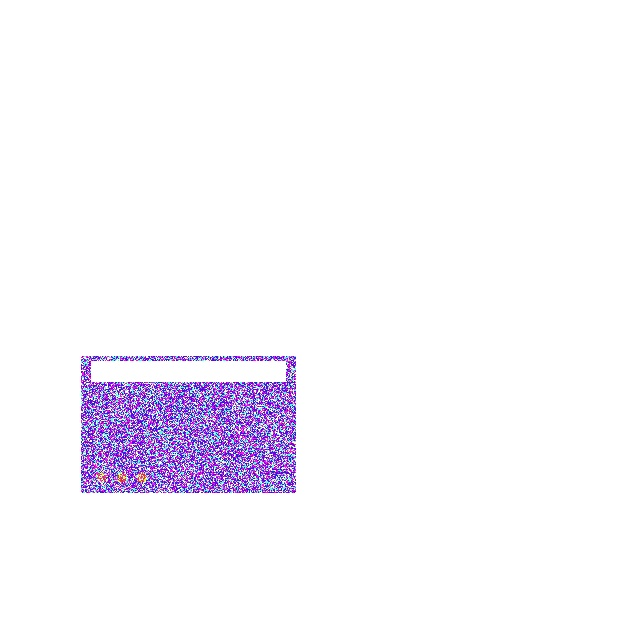Imprimante: (80, 356, 296, 492)
